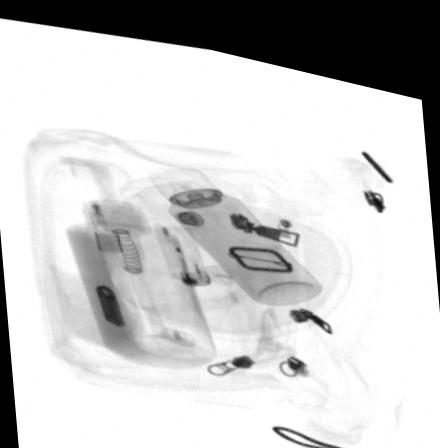Lighter: (154, 218, 212, 279)
Sprayer: (149, 157, 324, 293)
